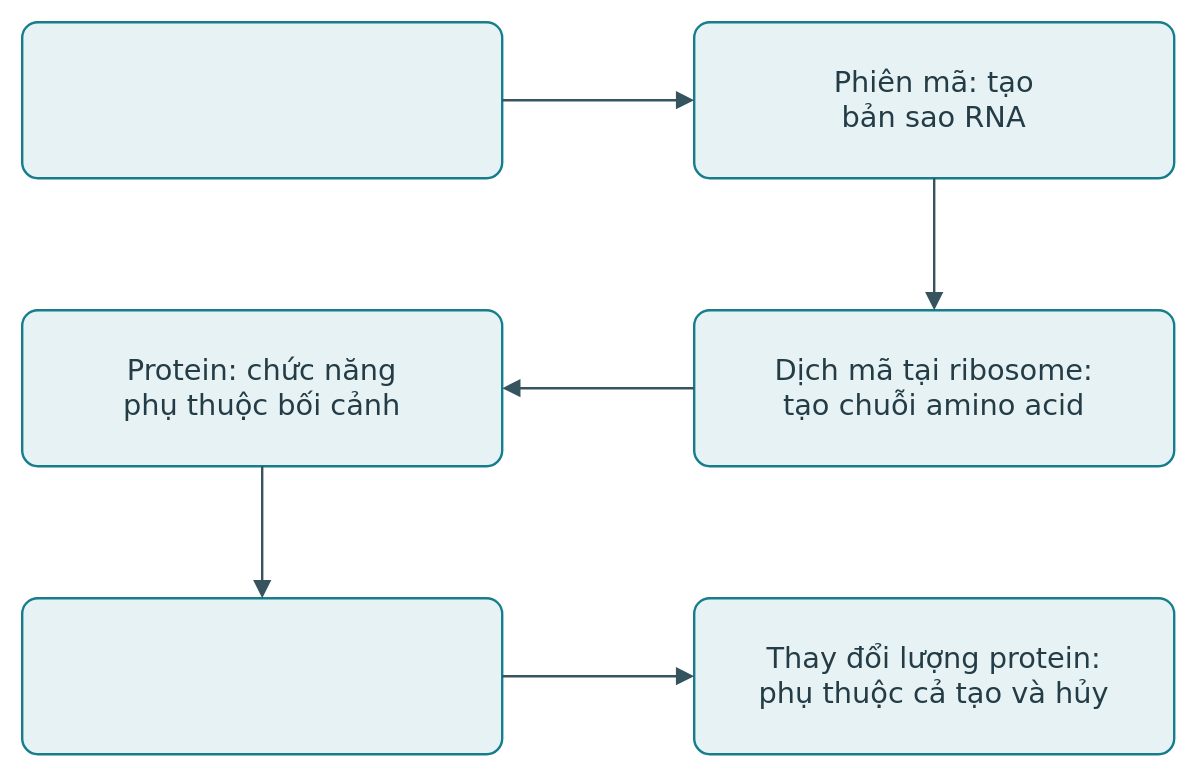
Image size: 1195x775. Some labels were removed from this diagram. The centre of each missing label's shape, as x and y in pixels:
"DNA: chứa thông tin của gene" belongs at (261,99).
"Nhánh UPS phù hợp: E3, ubiquitin, proteasome" belongs at (261,675).
